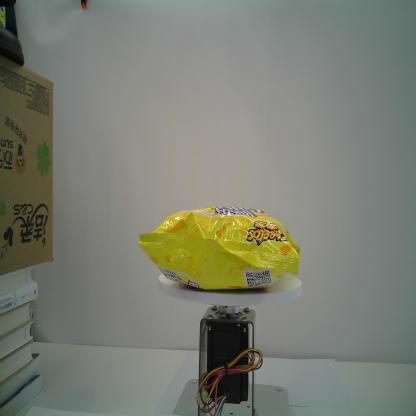Puffed Food: (137, 204, 302, 294)
